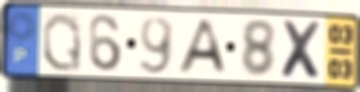6: (87, 12, 126, 75)
8: (239, 17, 278, 81)
9: (136, 14, 179, 75)
A: (174, 18, 231, 77)
Q: (41, 10, 84, 74)
X: (279, 17, 326, 82)
